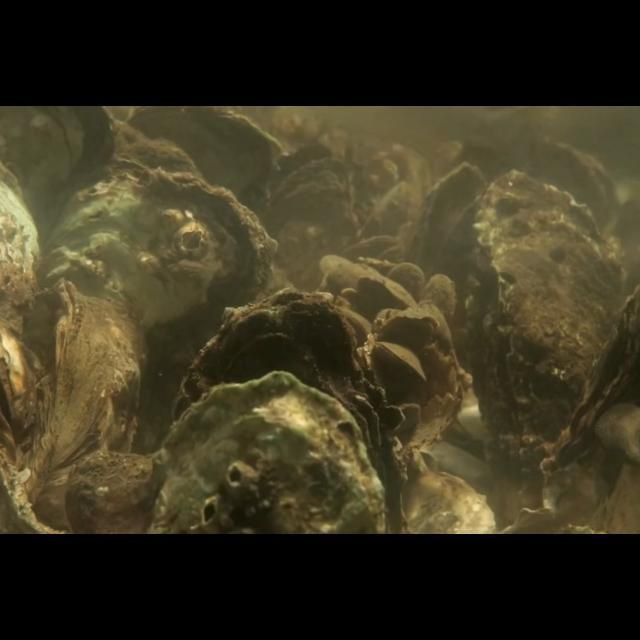Oyster-Closed: (43, 165, 277, 442), (172, 286, 404, 534), (146, 370, 384, 534), (28, 276, 144, 534), (125, 106, 283, 212), (0, 106, 120, 232), (64, 450, 154, 534), (0, 162, 42, 333), (400, 469, 494, 535), (357, 272, 417, 308), (385, 261, 425, 309), (314, 253, 366, 289), (381, 312, 439, 344), (422, 272, 456, 322)
Oyster-Open: (463, 166, 623, 464), (536, 282, 640, 502), (256, 141, 352, 283), (408, 160, 488, 314), (0, 327, 40, 468), (372, 339, 426, 381)
